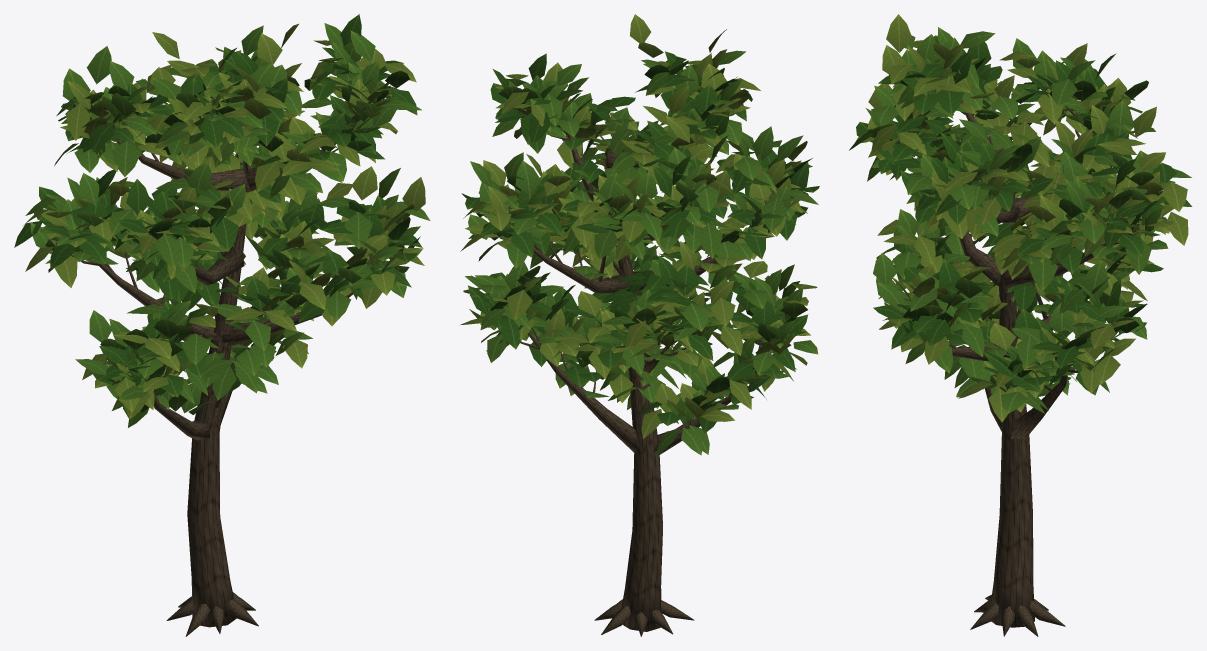
The model's file is frontier_sunmeadow_oak_hedgerow_lod2.glb.
3 renders of one model, left to right at view 1: azimuth 30°, elevation 25°; view 2: azimuth 150°, elevation 25°; view 3: azimuth 270°, elevation 25°, orthographic. The views are drawn at different scales.
Parts seen in each view (by area): view 1: frontier_sunmeadow_oak_hedgerow_LOD2; view 2: frontier_sunmeadow_oak_hedgerow_LOD2; view 3: frontier_sunmeadow_oak_hedgerow_LOD2.
Part boxes in pixels (x1=…): frontier_sunmeadow_oak_hedgerow_LOD2: x1=14, y1=14, x2=430, y2=636; frontier_sunmeadow_oak_hedgerow_LOD2: x1=459, y1=14, x2=819, y2=636; frontier_sunmeadow_oak_hedgerow_LOD2: x1=849, y1=14, x2=1192, y2=636.
Bounding box in the file's own units: 7.21 × 13.1 × 6.8.
Materials: 2 (2 with a texture image).
